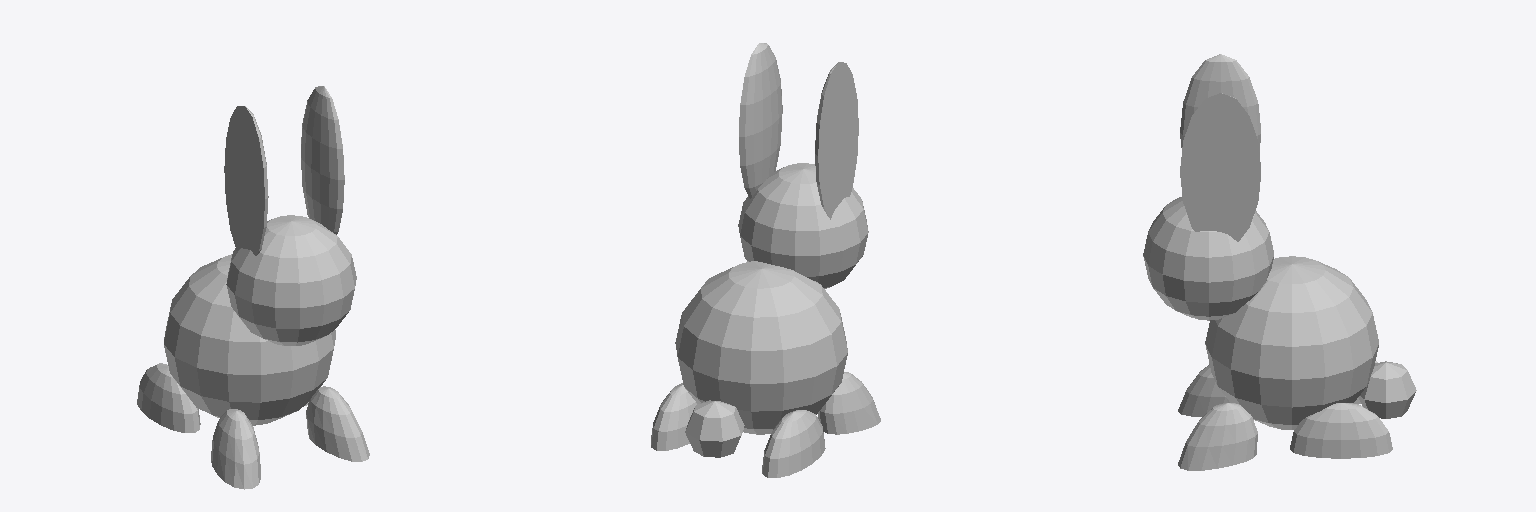
Rendered from rabbit-landing.obj.
The picture shows the model from 3 angles: view 1: azimuth 30°, elevation 25°; view 2: azimuth 150°, elevation 25°; view 3: azimuth 270°, elevation 25°; orthographic projection.
Visible parts, largest first — view 1: sphere2, sphere1, sphere6_copy10, sphere4_cut11, sphere4, sphere6_copy8; view 2: sphere2, sphere1, sphere4_cut11, sphere4, sphere6_copy8, sphere3, sphere6_copy10, sphere6_cut7; view 3: sphere2, sphere1, sphere4, sphere6_copy10, sphere6_cut7, sphere4_cut11, sphere3.
Boxes of the visible parts, box(x1,y1,x2,y2) form: sphere2: box(164, 254, 335, 425); sphere1: box(226, 215, 356, 345); sphere6_copy10: box(211, 386, 369, 489); sphere4_cut11: box(224, 106, 268, 255); sphere4: box(301, 86, 344, 234); sphere6_copy8: box(137, 363, 200, 432); sphere2: box(675, 261, 847, 434); sphere1: box(738, 163, 868, 288); sphere4_cut11: box(815, 62, 858, 219); sphere4: box(739, 43, 782, 198); sphere6_copy8: box(762, 410, 825, 477); sphere3: box(685, 400, 744, 457); sphere6_copy10: box(818, 372, 880, 434); sphere6_cut7: box(651, 383, 696, 450); sphere2: box(1205, 256, 1378, 429); sphere1: box(1143, 197, 1273, 320); sphere4: box(1180, 93, 1260, 241); sphere6_copy10: box(1178, 364, 1257, 470); sphere6_cut7: box(1290, 403, 1392, 458); sphere4_cut11: box(1180, 54, 1260, 151); sphere3: box(1358, 361, 1416, 418).
Bounding box in the file's own units: 2 × 4.61 × 3.14.